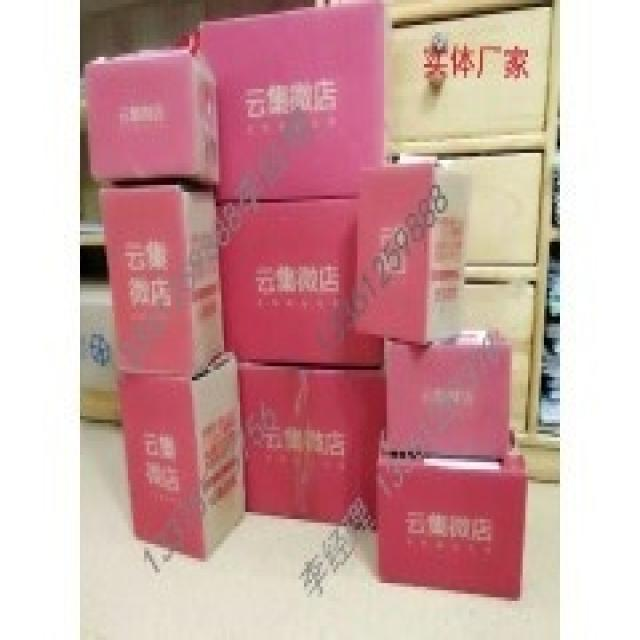box: (194, 1, 388, 200), (218, 200, 387, 367), (120, 353, 249, 558), (100, 179, 227, 381), (241, 360, 384, 530), (375, 448, 527, 597), (357, 163, 472, 343), (89, 49, 221, 191), (382, 329, 509, 457)
